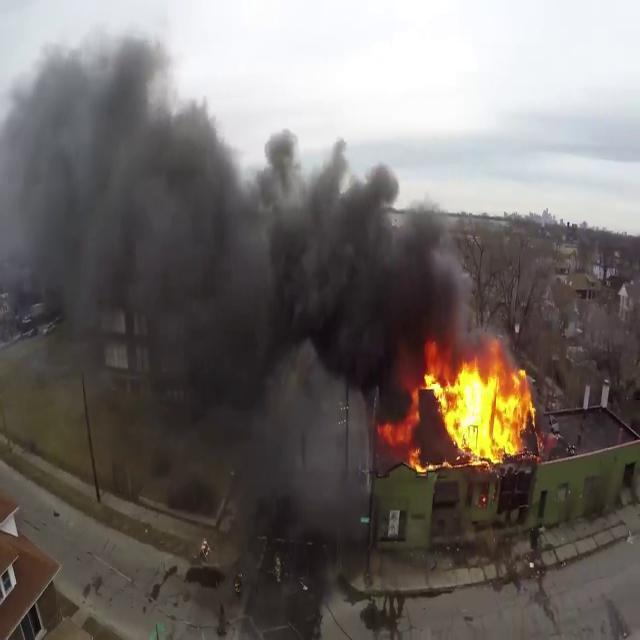Fire: (412, 342, 540, 470)
Smoke: (1, 32, 470, 430)
